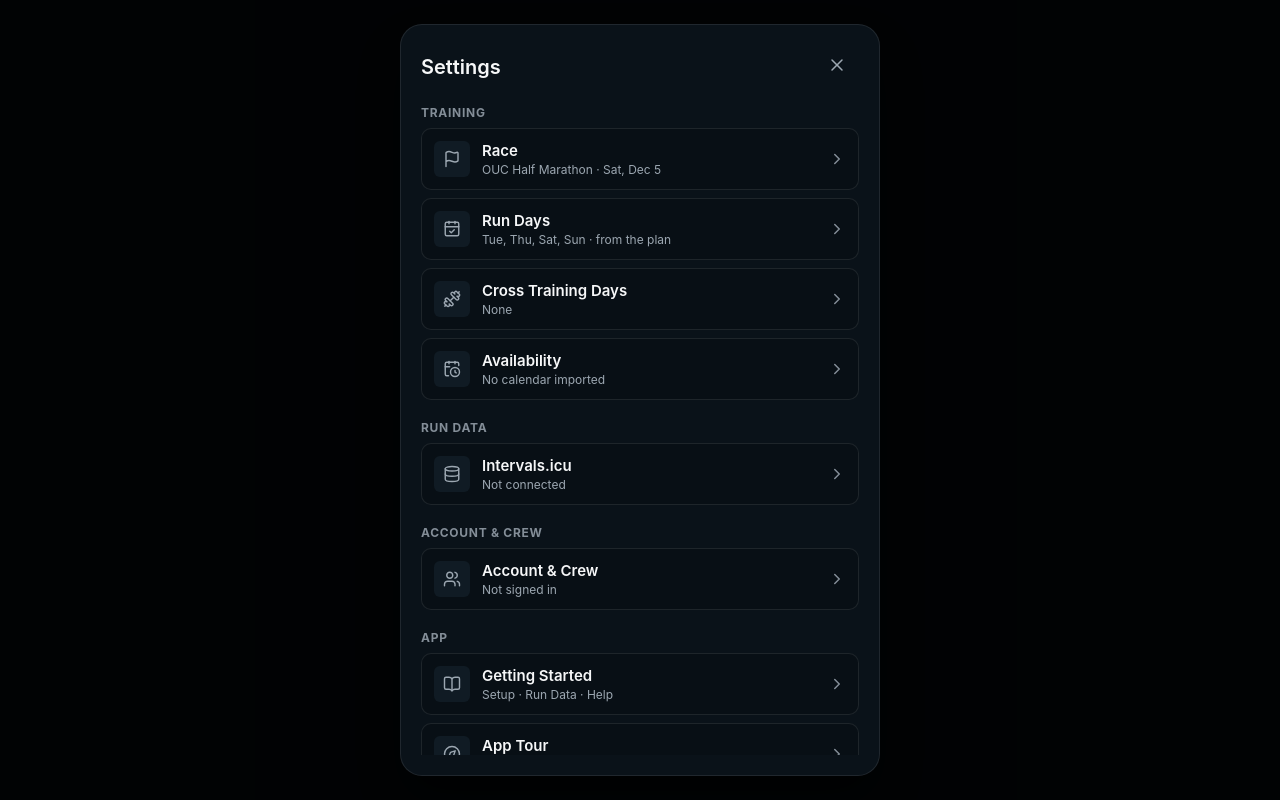
it: choosing which days to run › opens on every day, and says what shape the plan has now
Click the button "Run Days Tue, Thu, Sat, Sun · from the plan" at (640, 229), box 421,198 -> 859,260
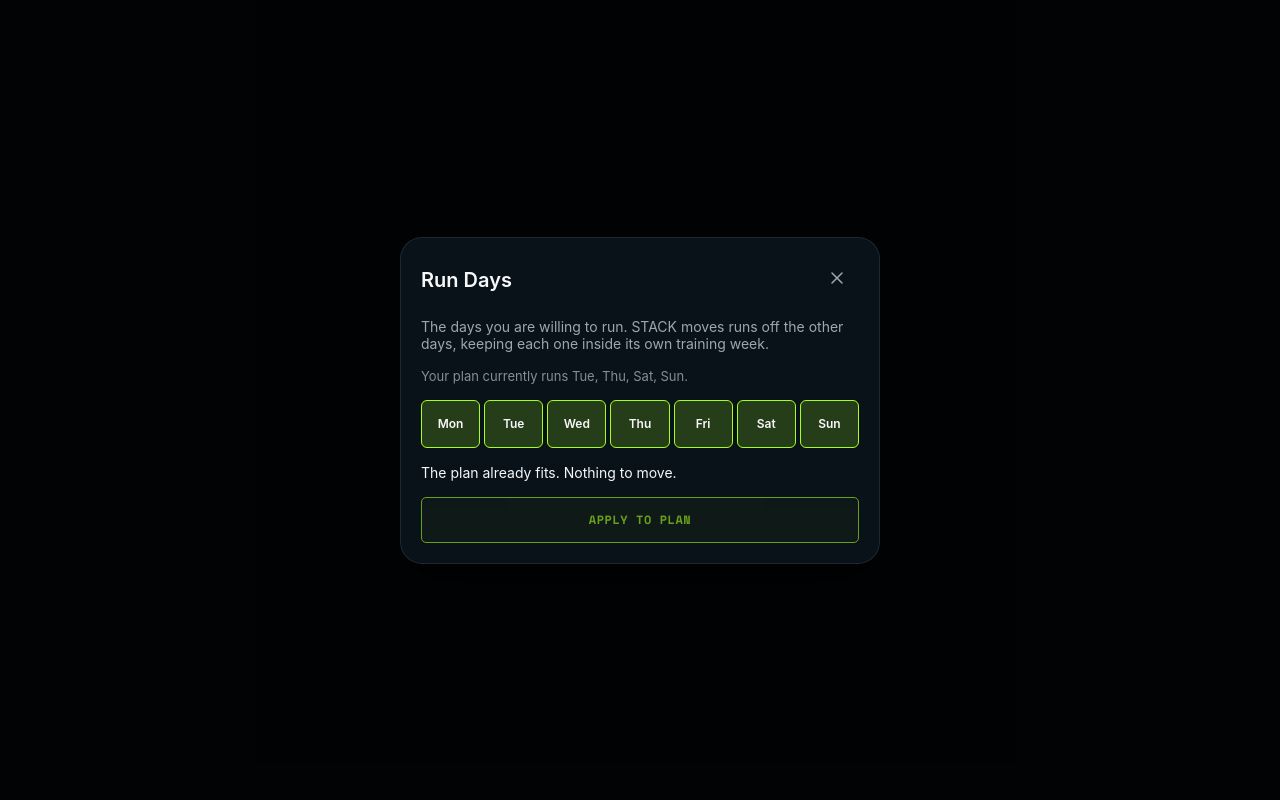
Now the text "Your plan currently runs Tue, Thu, Sat, Sun." is shown, box 421,368 -> 688,384
Now the text "The plan already fits. Nothing to move." is shown, box 421,464 -> 677,480
